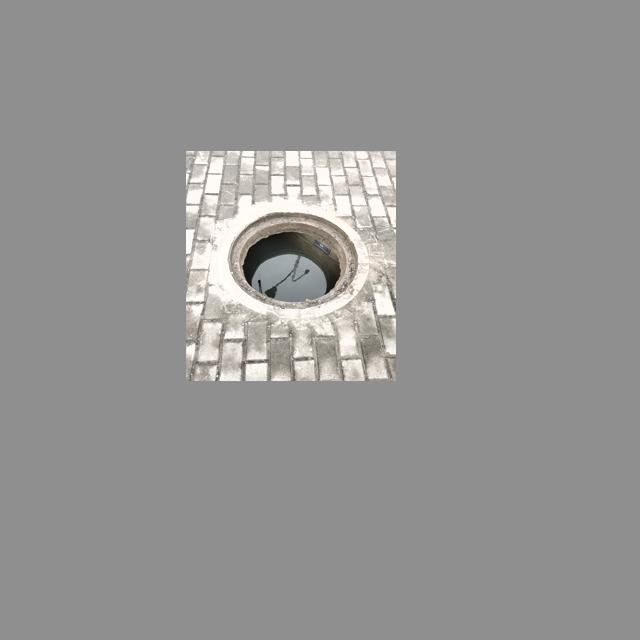lose: (217, 206, 371, 318)
